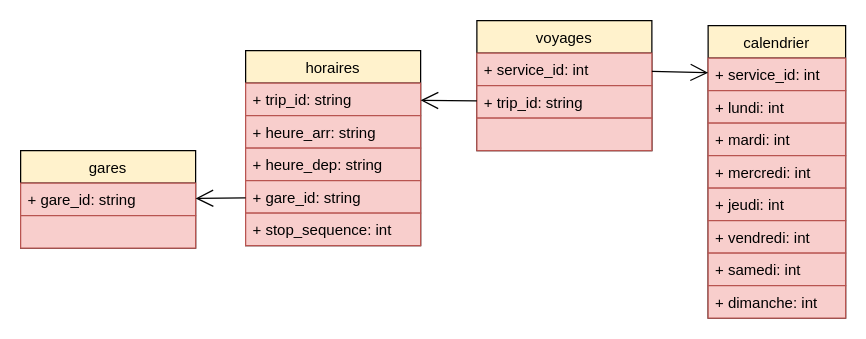
Some shapes in this 866 by 339 pixel diagram are drawn without their labels. The shapes that lost their labels are listed below. From the top down, each one's centre as x and y in pixels, then its label:
At (564,134): "+ num_train: string".
At (107,231): "+ gare_nom: string".
